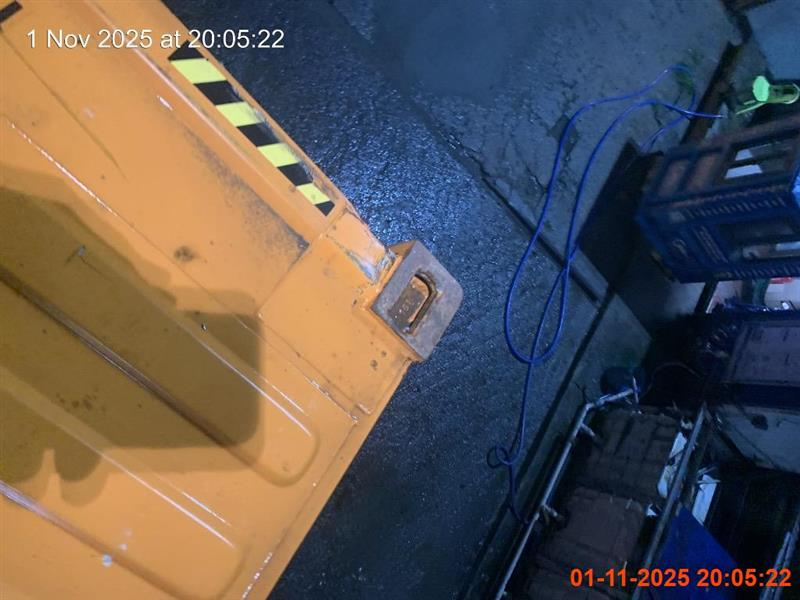broken: (2, 1, 465, 598)
